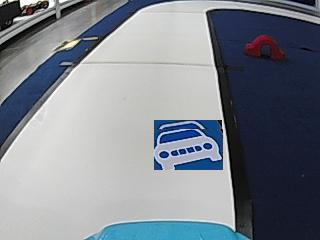bridge: (244, 33, 284, 61)
